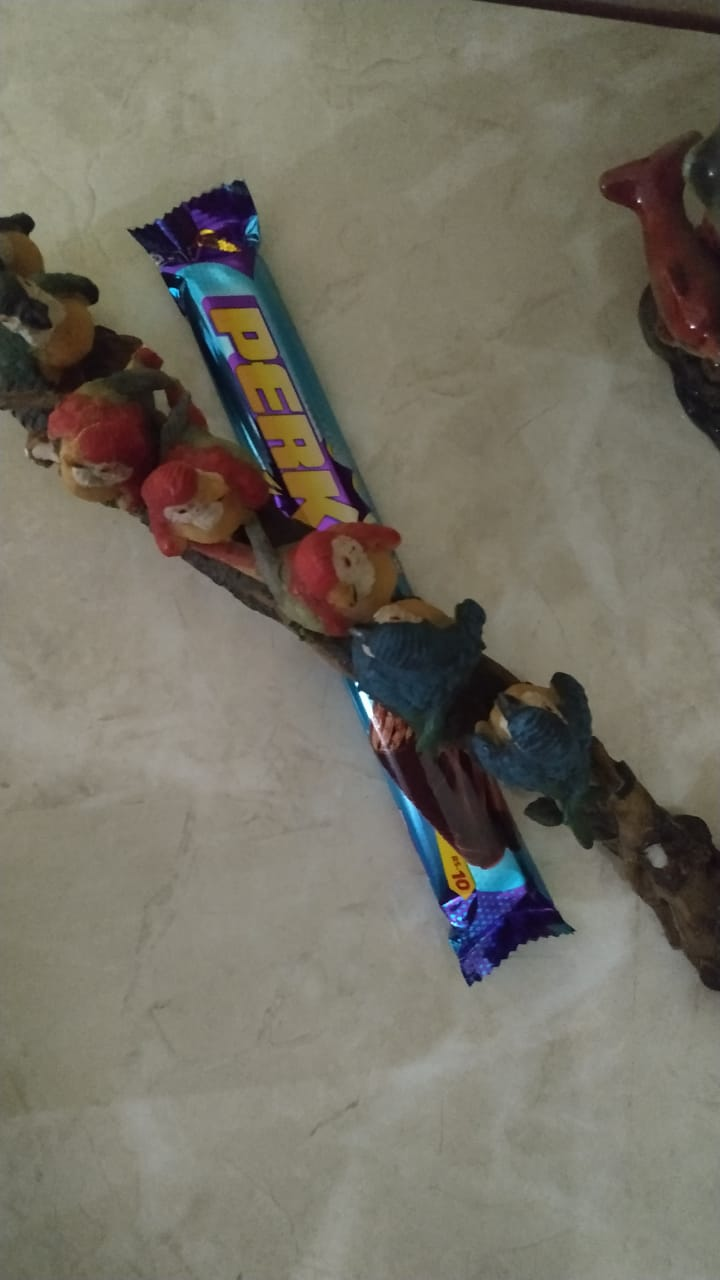perk: (133, 172, 580, 990)
